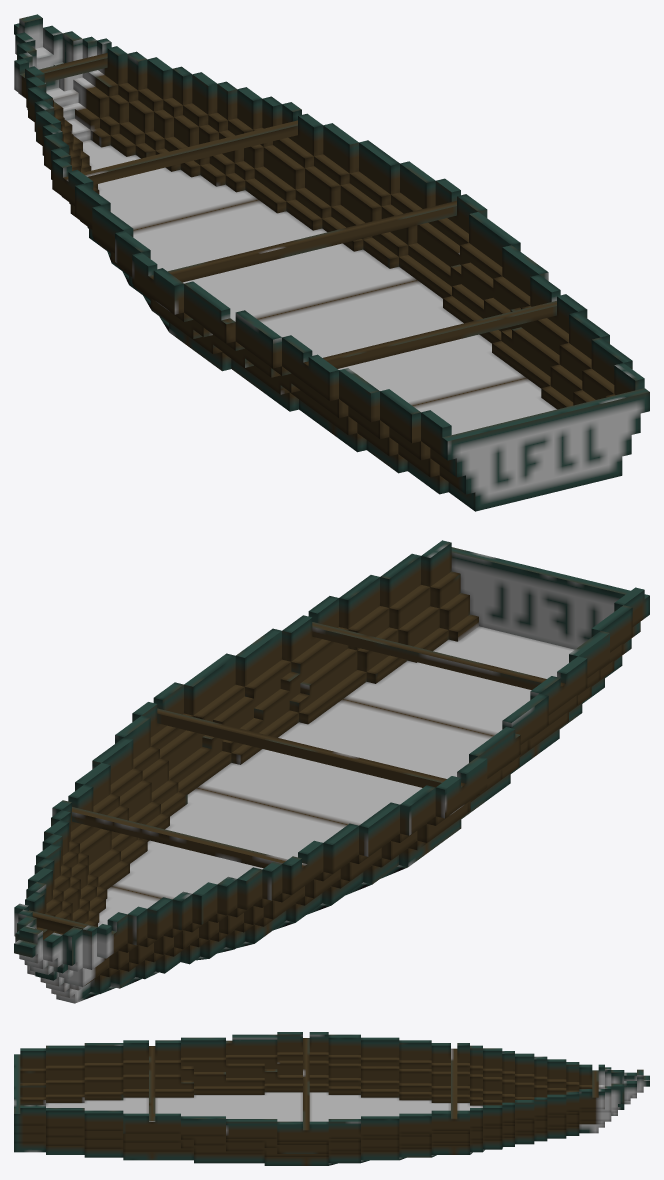
The model's file is Canoa-LFLL.fbx.
3 views of the same model, one above another, from view 1: azimuth 30°, elevation 25°; view 2: azimuth 150°, elevation 25°; view 3: azimuth 270°, elevation 25° (orthographic). The views are drawn at different scales.
Visible parts, largest first — view 1: Canoa-LFLL; view 2: Canoa-LFLL; view 3: Canoa-LFLL.
Part boxes in pixels (left/top/right/bottom): Canoa-LFLL: left=14, top=14, right=649, bottom=511; Canoa-LFLL: left=14, top=540, right=649, bottom=1003; Canoa-LFLL: left=14, top=1032, right=649, bottom=1165.
Bounding box in the file's own units: 340 × 100 × 990.
